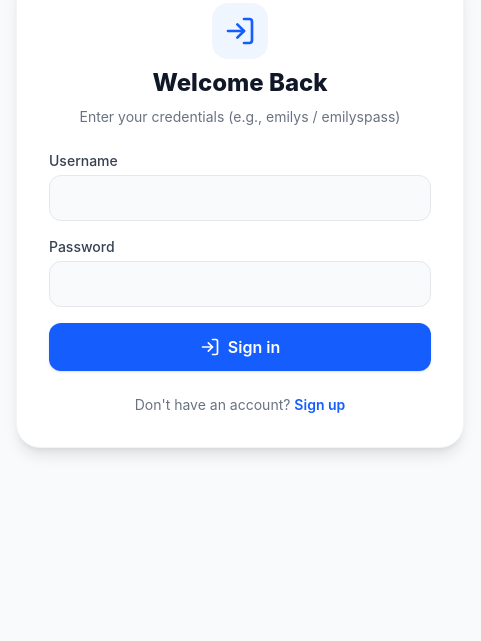
it: AuthPage › Switching modes › should clear the form errors when switching
Click the button "Sign in" at (240, 347), box [49,323,431,371]
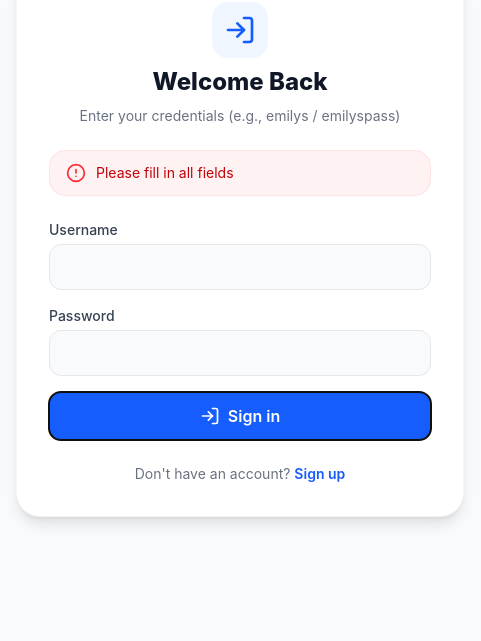
Click the button "Sign up" at (320, 474), box [294,464,345,484]
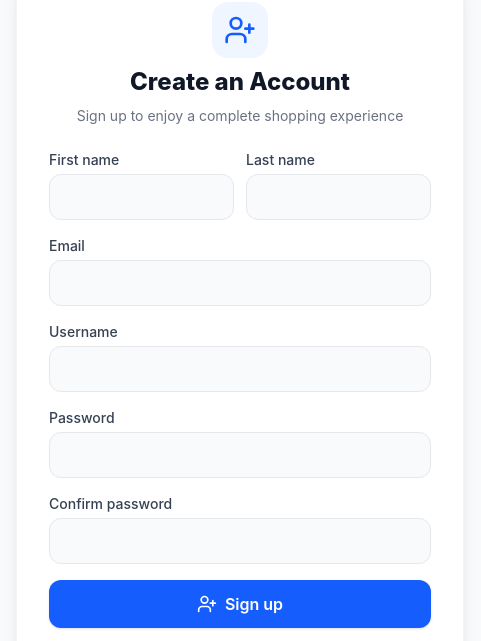
Expected: the message "Please fill in all fields" is gone
